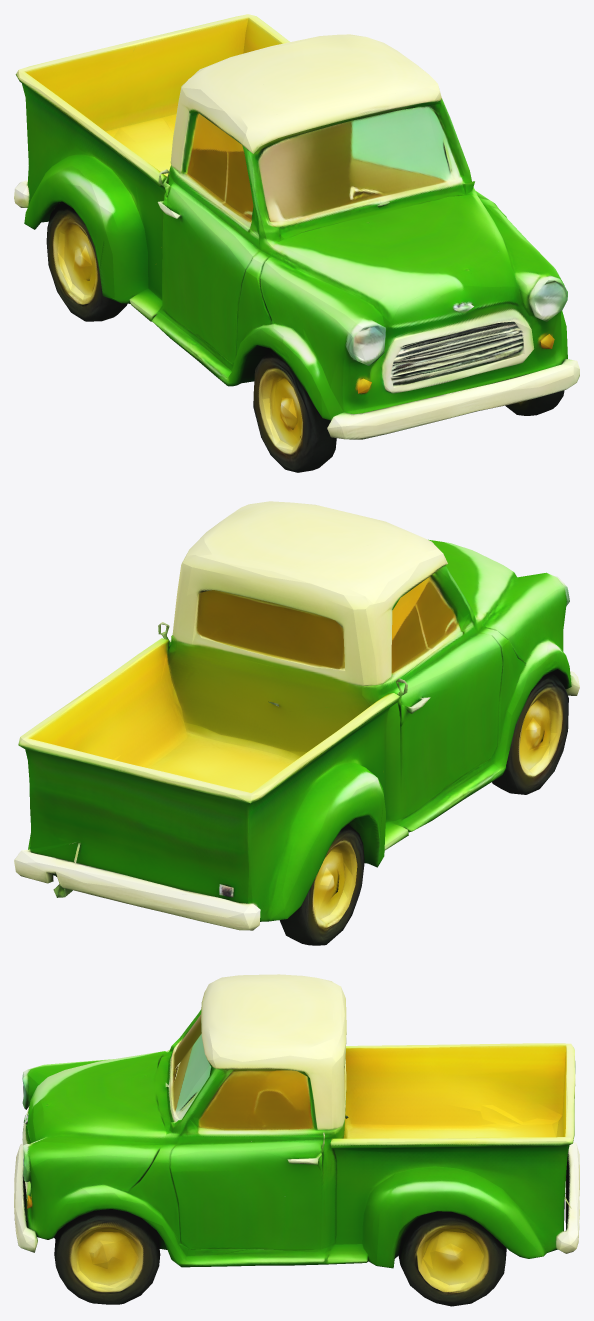
The picture shows the model from 3 angles, top to bottom: view 1: azimuth 30°, elevation 25°; view 2: azimuth 150°, elevation 25°; view 3: azimuth 270°, elevation 25°; orthographic projection. The views are drawn at different scales.
Parts seen in each view (by area): view 1: model; view 2: model; view 3: model.
Part boxes in pixels (x1,y1,x2,y2): model: [14, 14, 579, 472]; model: [14, 501, 579, 945]; model: [14, 974, 579, 1306].
Bounding box in the file's own units: 0.9204 × 0.9337 × 1.9.
1 material, 1 textured.
